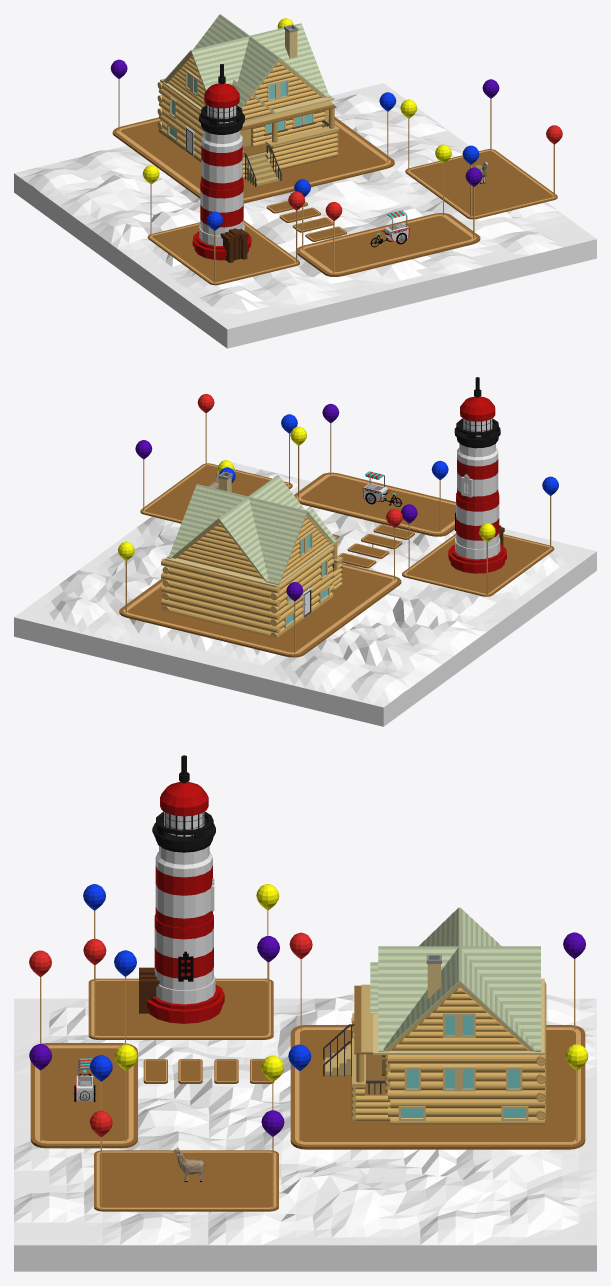
3 views of the same model, one above another, from view 1: azimuth 30°, elevation 25°; view 2: azimuth 150°, elevation 25°; view 3: azimuth 270°, elevation 25° (orthographic). The views are drawn at different scales.
Visible parts, largest first — view 1: Cube.013, Cube.1516, OBJRANDOM_LIGHTHOUSE, VEHICLES_SNOWBAL_BIKE; view 2: Cube.013, Cube.1516, OBJRANDOM_LIGHTHOUSE, VEHICLES_SNOWBAL_BIKE; view 3: Cube.013, Cube.1516, OBJRANDOM_LIGHTHOUSE, VEHICLES_SNOWBAL_BIKE.
Boxes of the visible parts, x1,y1,x2,y2 form: Cube.013: (14,18,596,348); Cube.1516: (157,14,339,186); OBJRANDOM_LIGHTHOUSE: (192,64,251,262); VEHICLES_SNOWBAL_BIKE: (370,210,409,247); Cube.013: (14,394,596,726); Cube.1516: (161,471,343,637); OBJRANDOM_LIGHTHOUSE: (448,377,506,573); VEHICLES_SNOWBAL_BIKE: (362,471,402,506); Cube.013: (14,884,596,1271); Cube.1516: (323,907,546,1124); OBJRANDOM_LIGHTHOUSE: (139,755,224,1023); VEHICLES_SNOWBAL_BIKE: (73,1058,95,1101).
Size of the model in its own units: 4000 by 2423 by 4000.
40 materials, 3 textured.
